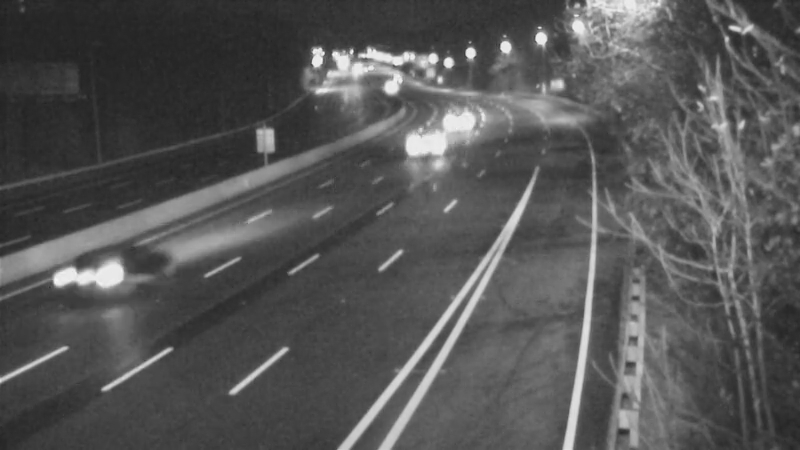vehicle: (52, 233, 132, 313), (434, 91, 484, 141), (399, 124, 449, 174)
